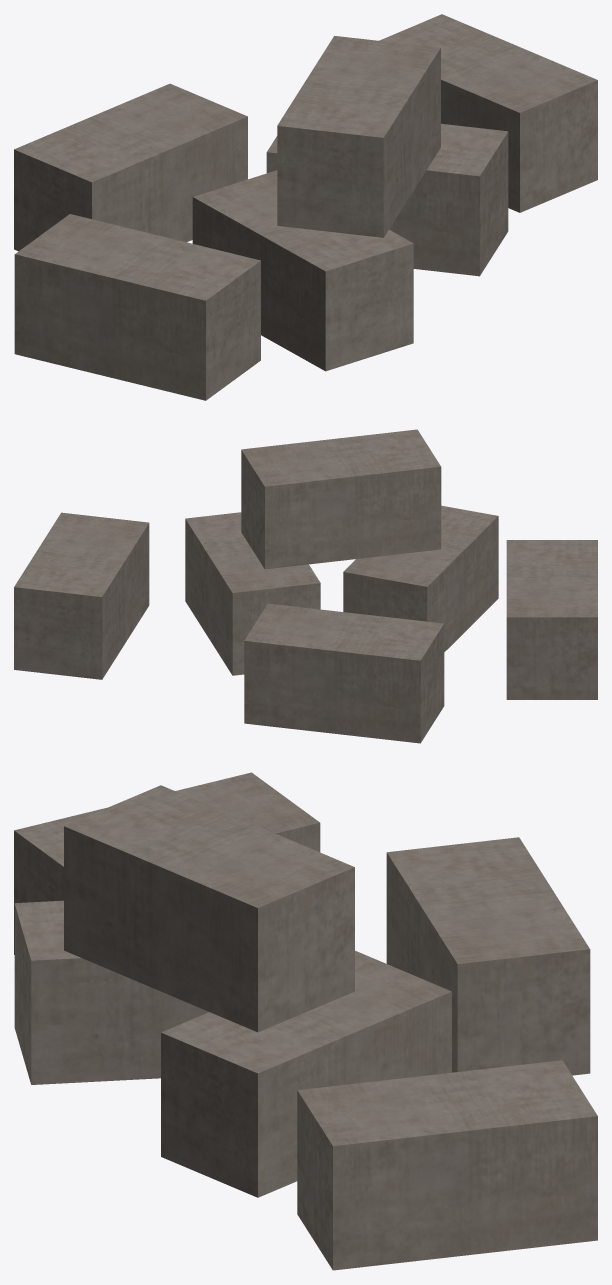
The model's file is detailBricks_typeB.dae.
3 renders of one model, top to bottom at view 1: azimuth 30°, elevation 25°; view 2: azimuth 150°, elevation 25°; view 3: azimuth 270°, elevation 25°, orthographic. The views are drawn at different scales.
Parts seen in each view (by area): view 1: detailBricks_typeB; view 2: detailBricks_typeB; view 3: detailBricks_typeB.
Boxes of the visible parts, x1,y1,x2,y2 form: detailBricks_typeB: [14, 14, 597, 400]; detailBricks_typeB: [14, 429, 597, 743]; detailBricks_typeB: [14, 772, 597, 1270].
Size of the model in its own units: 0.6446 by 0.2 by 0.4257.
